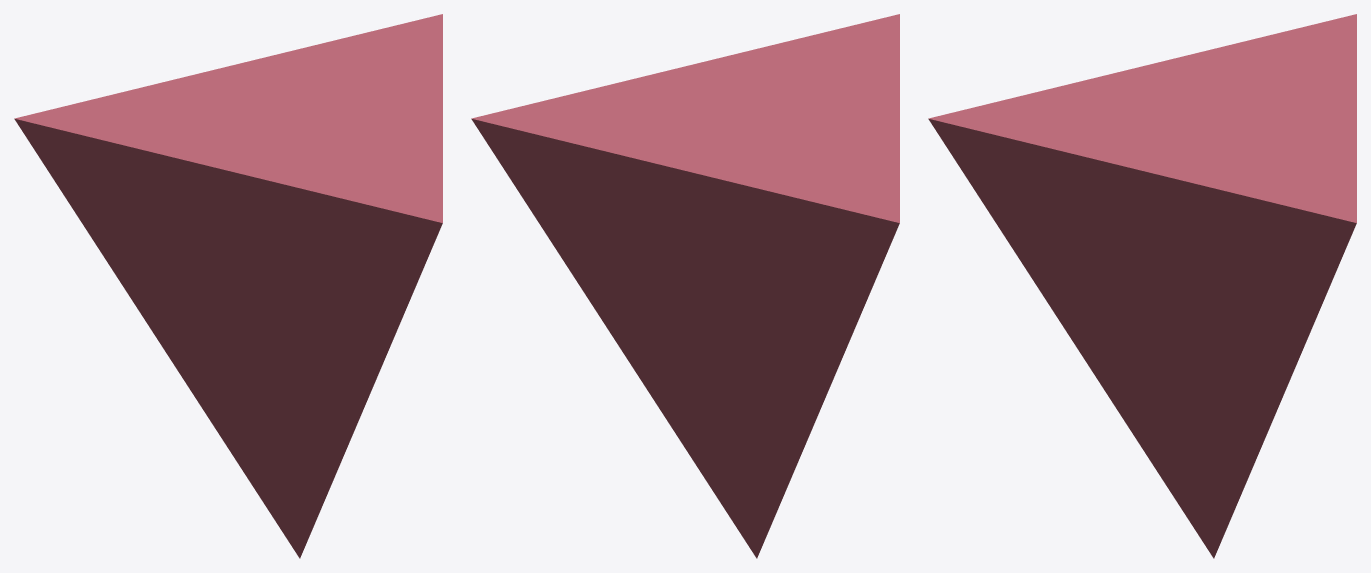
3 renders of one model, left to right at view 1: azimuth 30°, elevation 25°; view 2: azimuth 150°, elevation 25°; view 3: azimuth 270°, elevation 25°, orthographic.
Parts seen in each view (by area): view 1: Cone.001; view 2: Cone.001; view 3: Cone.001.
Boxes of the visible parts, left/top/right/bottom form: Cone.001: left=14, top=14, right=442, bottom=558; Cone.001: left=471, top=14, right=899, bottom=558; Cone.001: left=928, top=14, right=1356, bottom=558.
Size of the model in its own units: 173 by 170 by 150.
